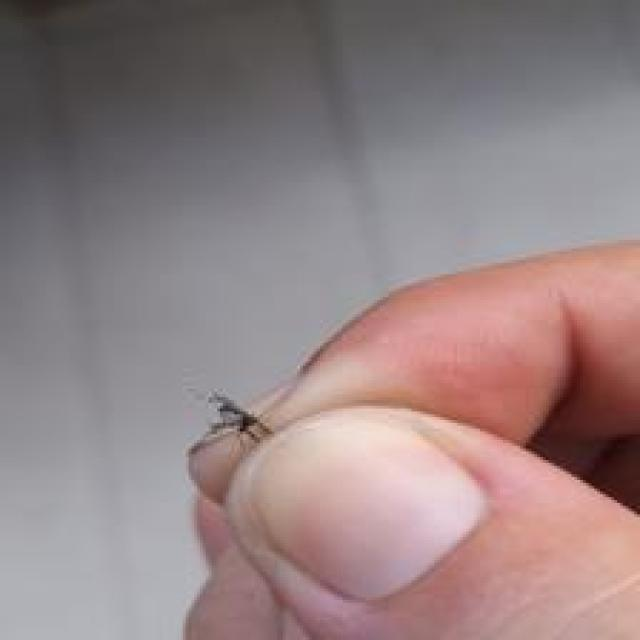Aedes albopictus: (201, 386, 276, 448)
